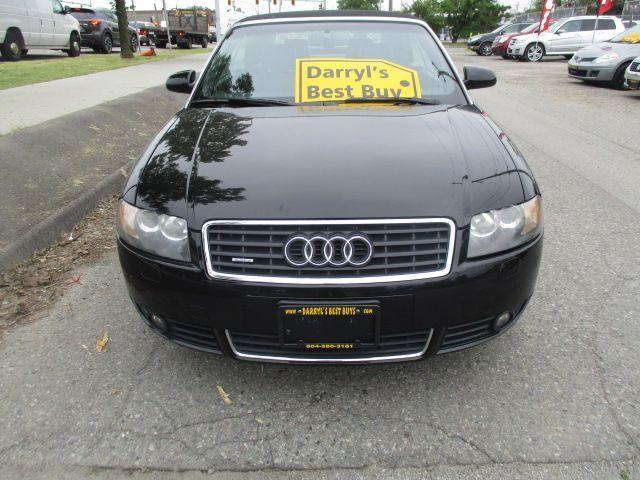audi: (279, 230, 378, 271)
